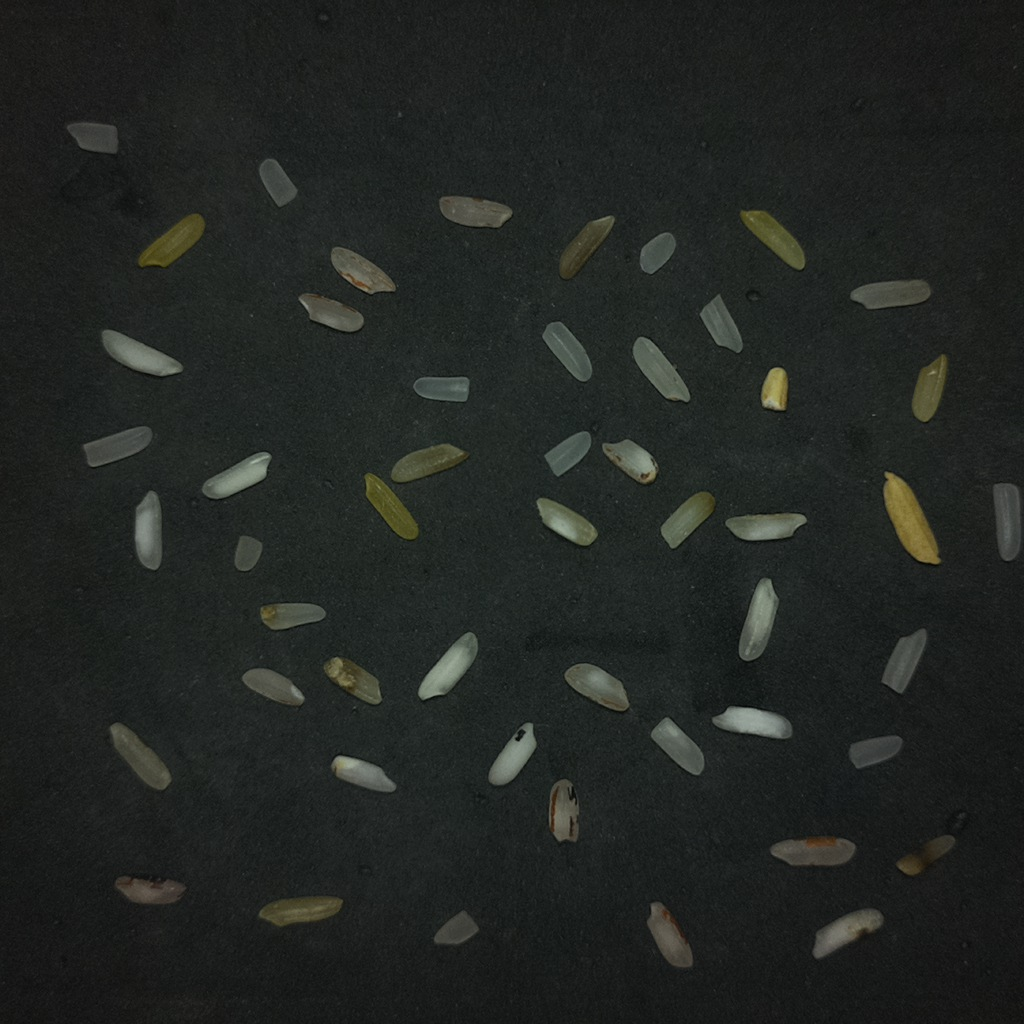broken: (109, 722, 170, 790), (564, 663, 628, 711), (652, 719, 703, 774), (883, 628, 926, 692), (85, 426, 151, 465), (331, 755, 396, 792), (912, 354, 947, 422), (243, 668, 302, 704), (701, 295, 739, 350), (545, 432, 589, 474), (259, 159, 295, 205), (851, 735, 901, 767), (433, 911, 478, 945), (67, 121, 116, 152), (640, 232, 674, 272), (414, 377, 467, 400), (761, 367, 788, 410), (235, 535, 261, 570)
chalky: (418, 632, 478, 700), (101, 329, 180, 375), (812, 908, 883, 958), (738, 578, 777, 659), (202, 452, 269, 497), (536, 498, 597, 546), (488, 723, 535, 784), (712, 707, 792, 739), (725, 514, 806, 541), (135, 492, 160, 568)
damaged: (323, 657, 381, 704), (896, 834, 955, 876), (259, 603, 325, 630)
discolored: (740, 210, 805, 269), (364, 473, 418, 540), (559, 216, 615, 280), (138, 213, 204, 267), (660, 491, 714, 548), (390, 443, 468, 482), (259, 896, 342, 926)
paddy: (883, 472, 940, 564)
red: (647, 901, 692, 968), (330, 247, 395, 292), (769, 836, 855, 866), (299, 293, 364, 332), (602, 439, 657, 483), (439, 197, 511, 228), (114, 875, 185, 904), (549, 779, 579, 842)
whole: (632, 337, 690, 401), (544, 321, 590, 378), (850, 280, 930, 309), (993, 483, 1021, 560)
